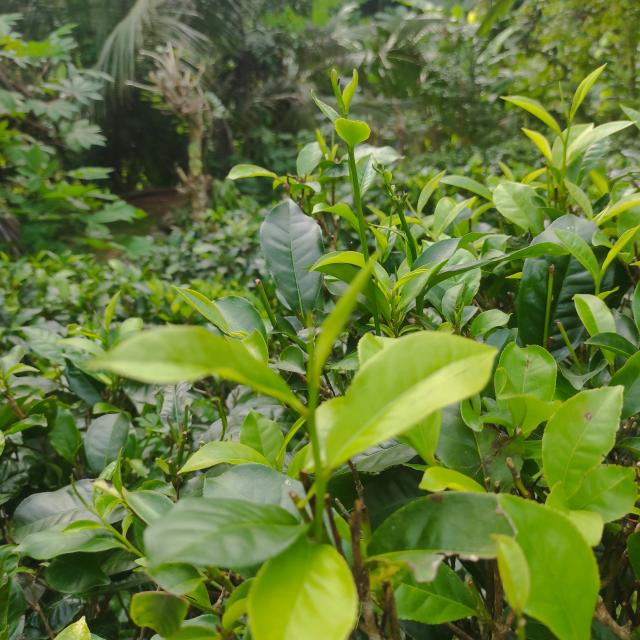unopened_leaf: (304, 238, 394, 402), (299, 313, 322, 393), (65, 471, 102, 518), (339, 66, 370, 118), (322, 65, 347, 117), (551, 77, 574, 129)
